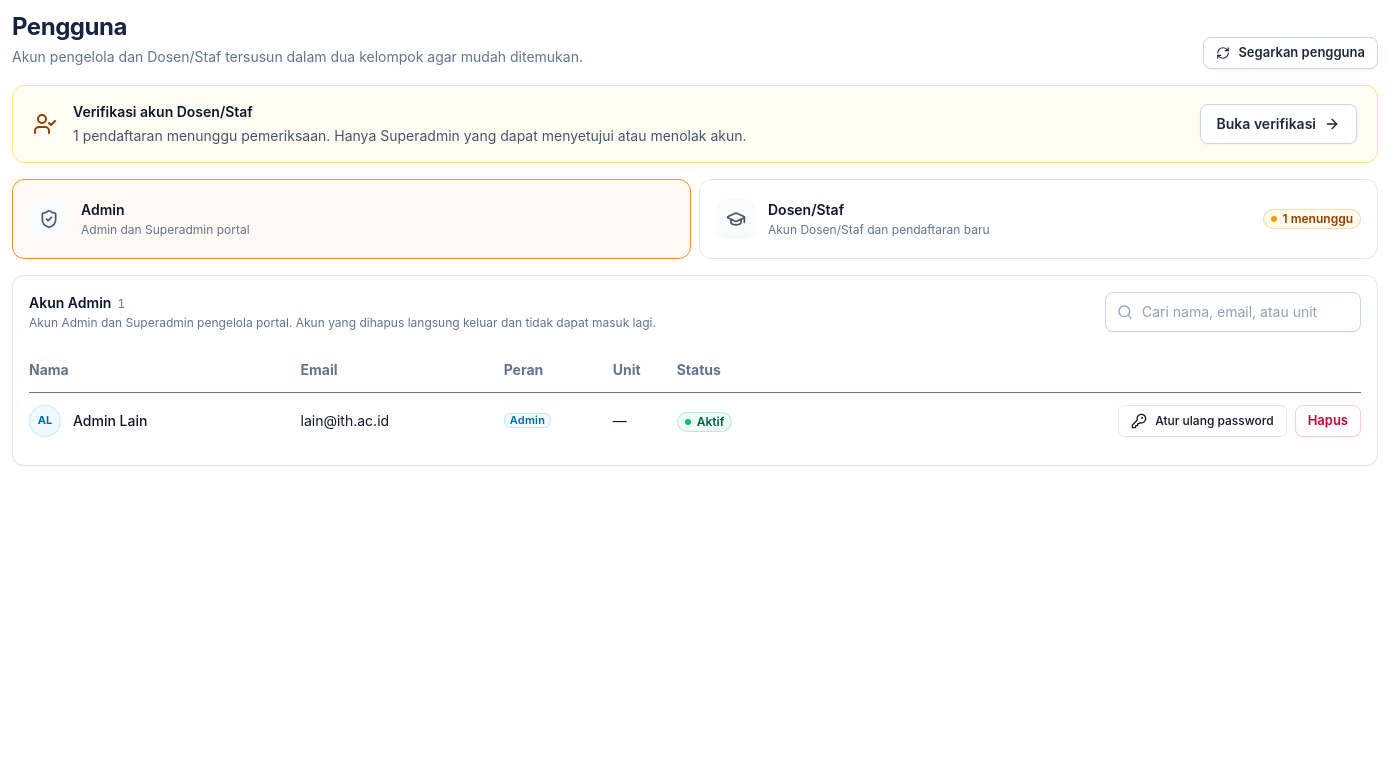
Test: Halaman informasi Admin tetap terbuka dengan kontrol perubahan nonaktif › Superadmin melihat email akun lengkap
Click the button "Dosen/Staf Akun Dosen/Staf dan pendaftaran baru 1 menunggu" at (736, 219), box top-left (699, 179), bottom-right (1378, 259)
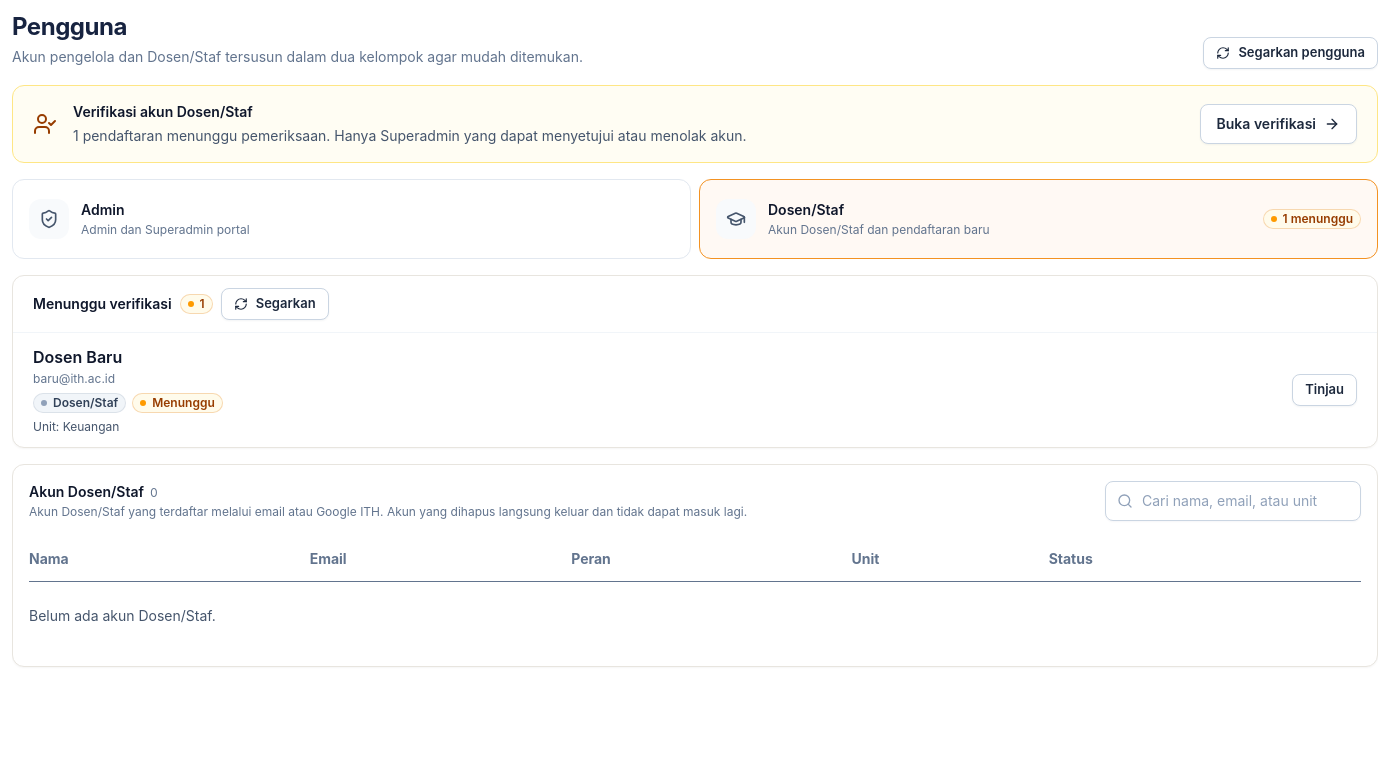
Now the text "Dosen Baru" is shown, box top-left (33, 347), bottom-right (122, 367)
Now the text "baru@ith.ac.id" is shown, box top-left (33, 371), bottom-right (115, 386)
